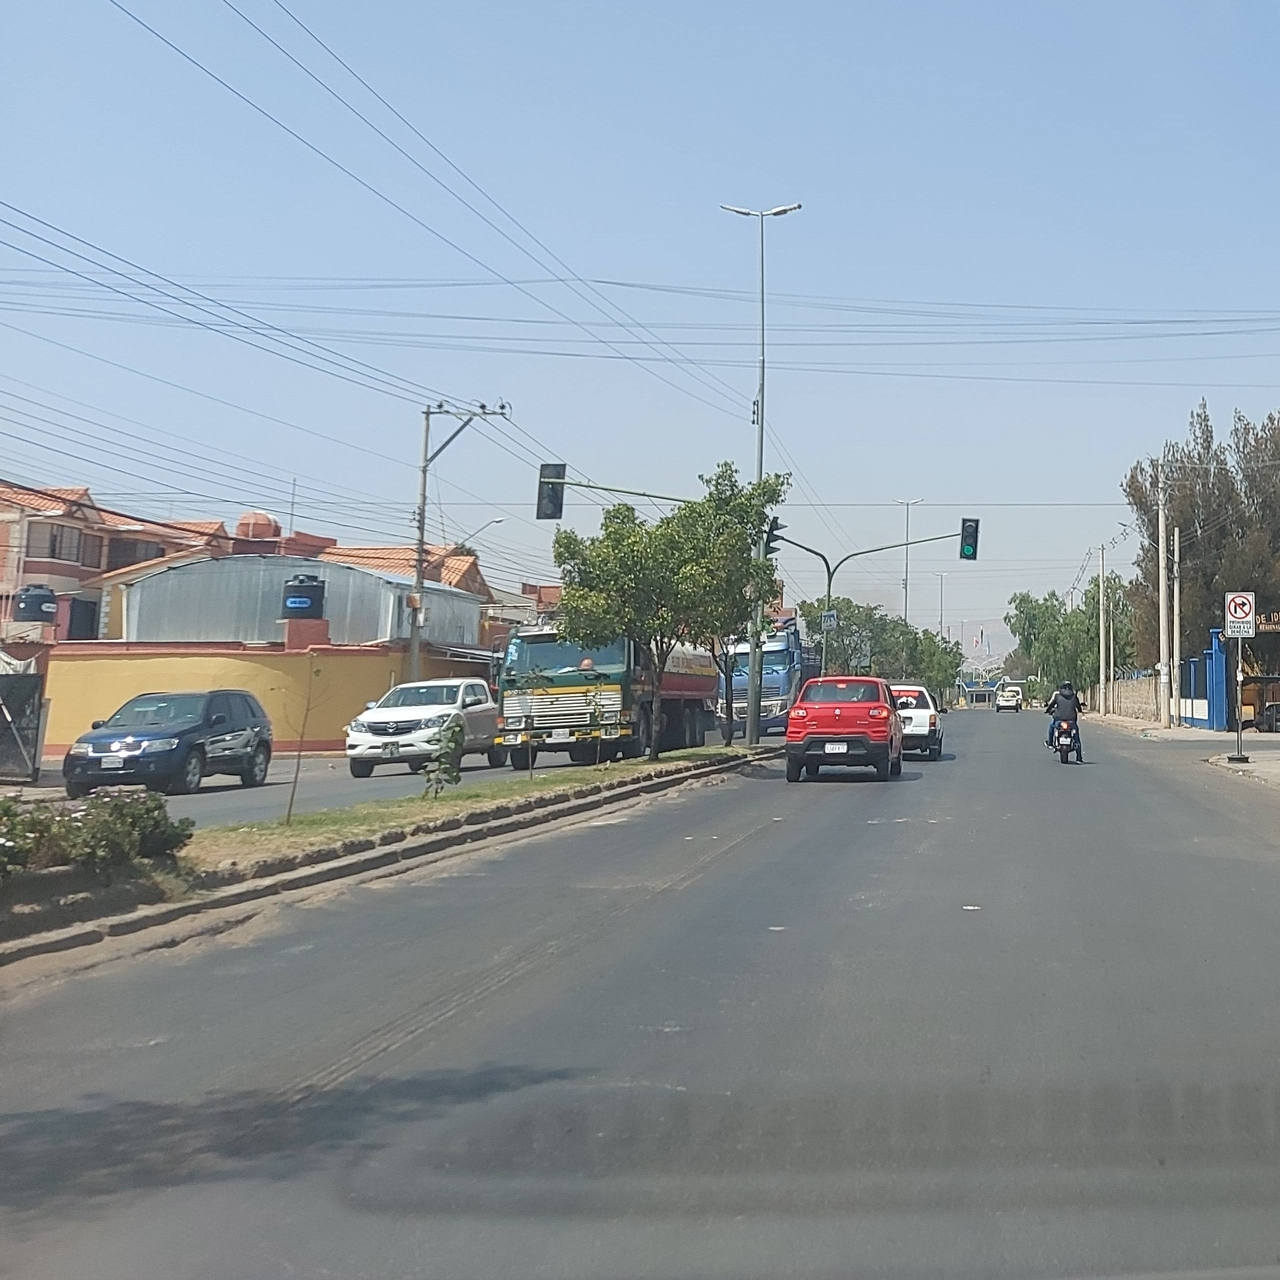prohibido-girar-derecha: (1225, 590, 1256, 639)
